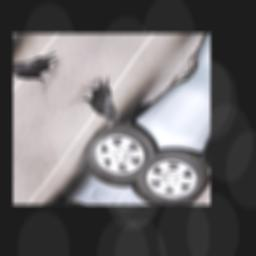Crow: (65, 69, 142, 130)
